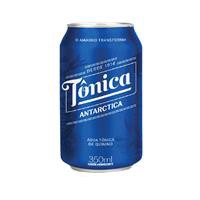tonica: (53, 18, 147, 175)
